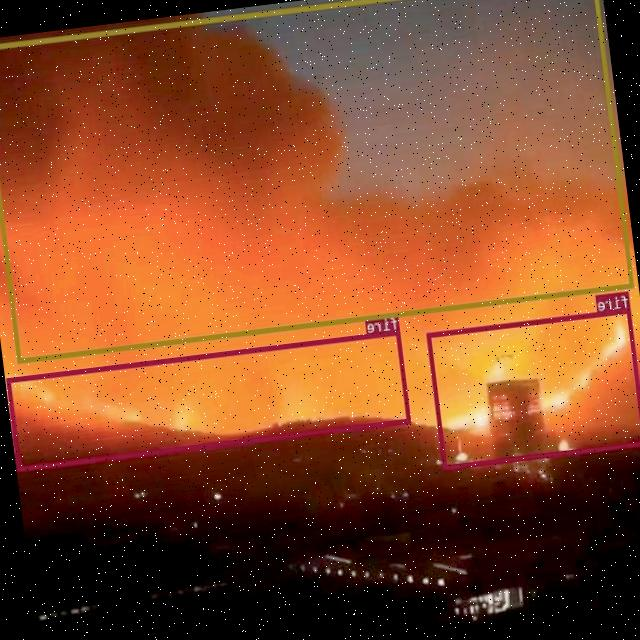fire: (6, 328, 412, 470), (427, 307, 640, 469)
smoke: (0, 0, 633, 362)
